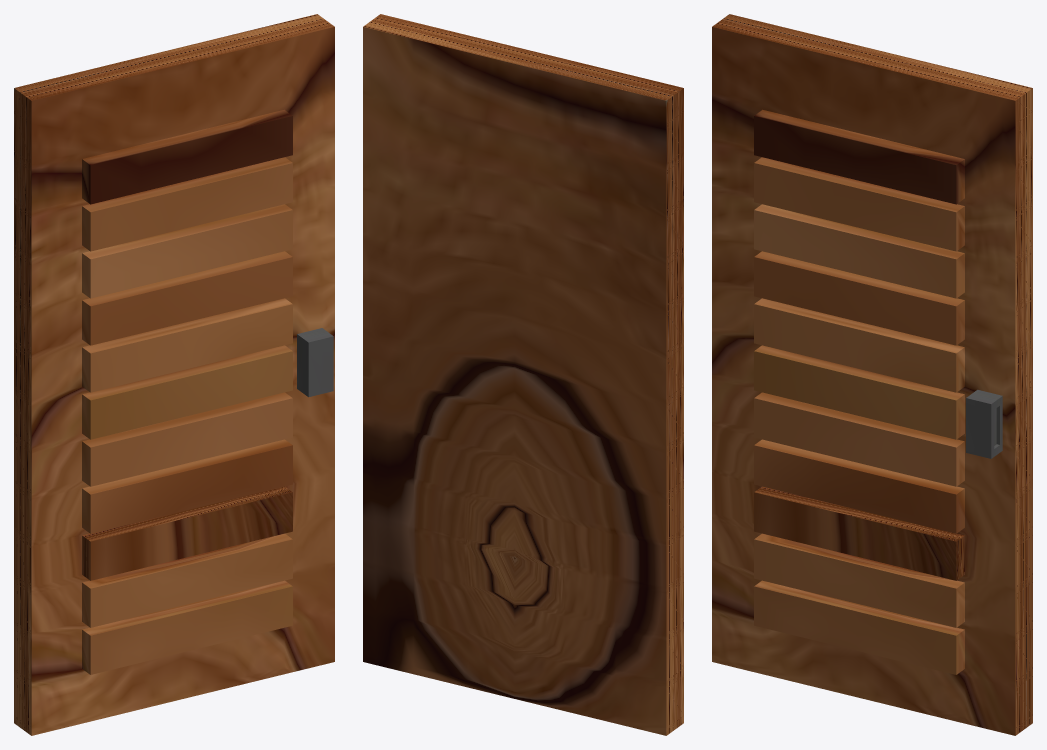
Rendered from Puerta_40.fbx.
3 views of the same model, side by side, from view 1: azimuth 30°, elevation 25°; view 2: azimuth 150°, elevation 25°; view 3: azimuth 330°, elevation 25° (orthographic).
Visible parts, largest first — view 1: Cube.040; view 2: Cube.040; view 3: Cube.040.
Part boxes in pixels (x1,y1,x2,y2): Cube.040: (14, 14, 334, 735); Cube.040: (363, 14, 683, 735); Cube.040: (712, 14, 1032, 735).
Bounding box in the file's own units: 200 × 400 × 33.09.
